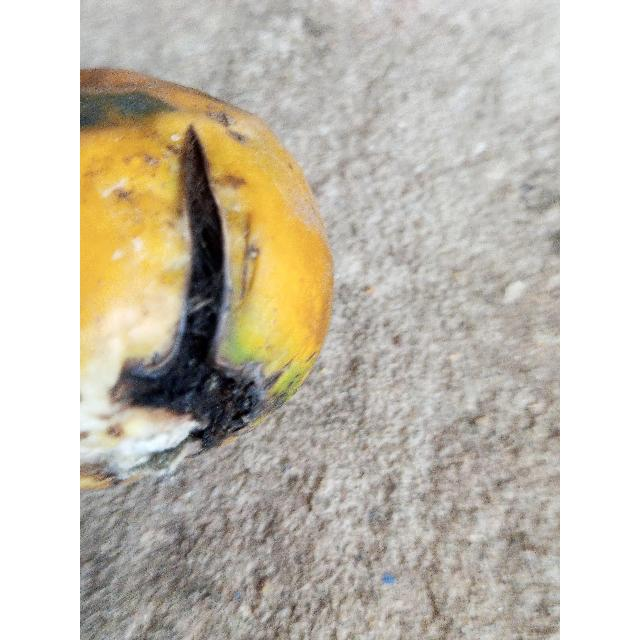damaged: (80, 67, 335, 490)
